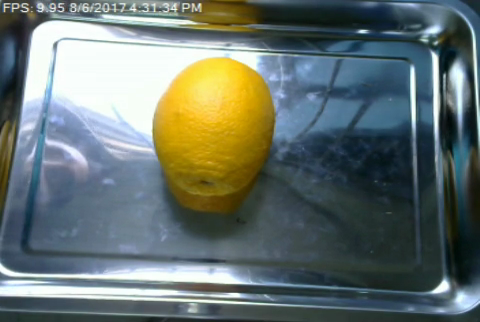Orange: (151, 58, 277, 197)
